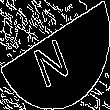N_NW: (33, 23, 77, 87)
